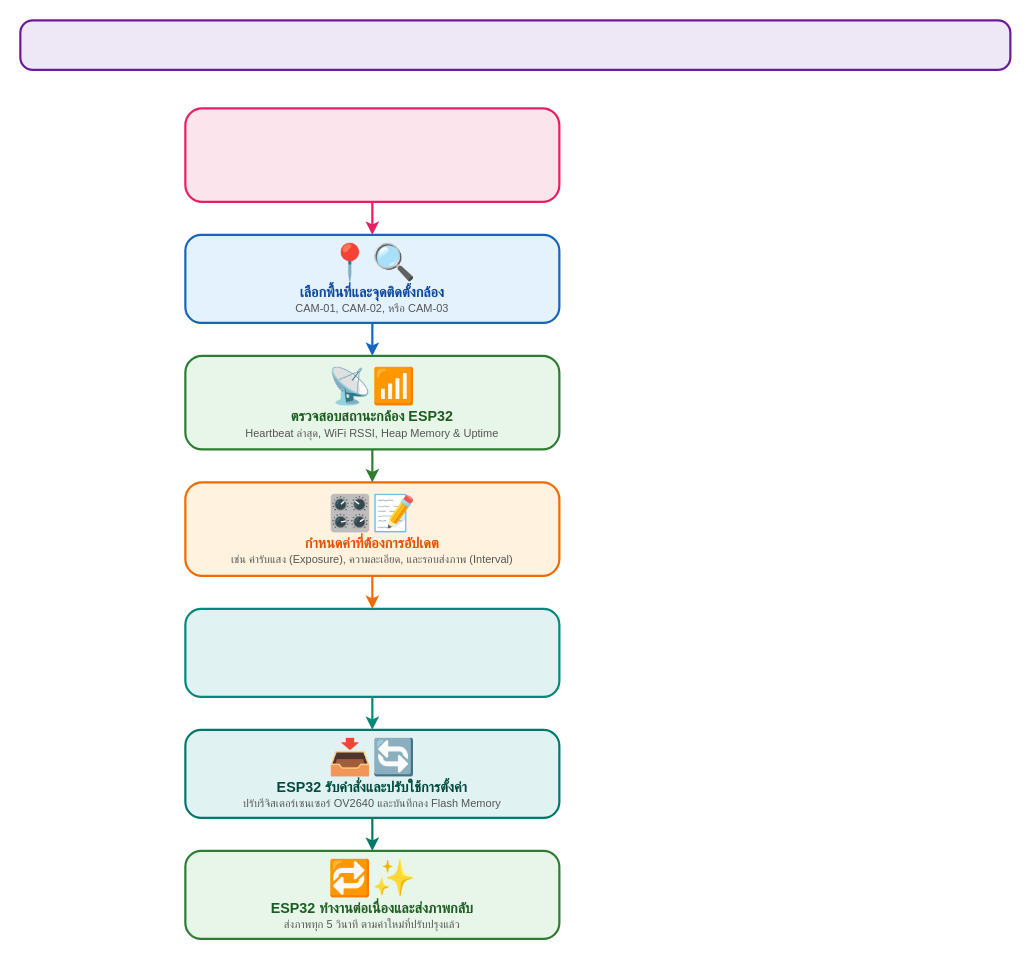
Some shapes in this 1030 by 958 pixel diagram are drawn without their labels. Here are the shapes that lost their labels. From the top down, the centre of each, then its label:
[515,44]: ⚙️ Pipeline 2: การจัดการและควบคุมกล้องทางไกลผ่าน Admin Interface
[372,154]: 👨‍💻 ผู้ดูแลระบบเข้าสู่ Admin Interface ยืนยันตัวตนผ่าน JWT Security System
[372,652]: 🚀📡 เซิร์ฟเวอร์ส่งคำสั่งไปยัง ESP32 ส่ง Command ผ่าน HTTP POST / OTA Sync
